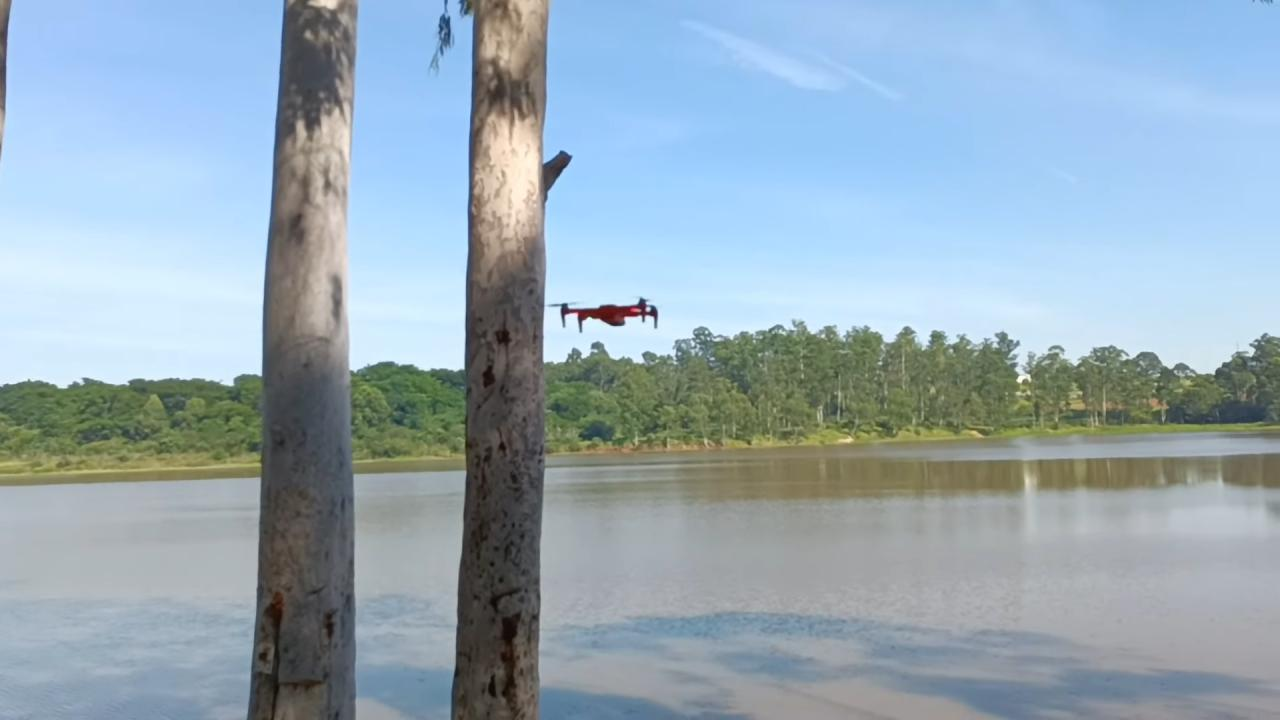Drone: (546, 282, 677, 344)
